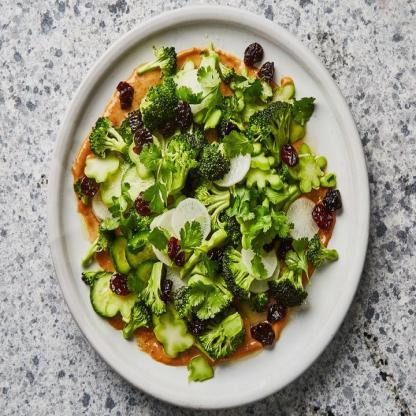broccoli: (69, 40, 344, 388)
